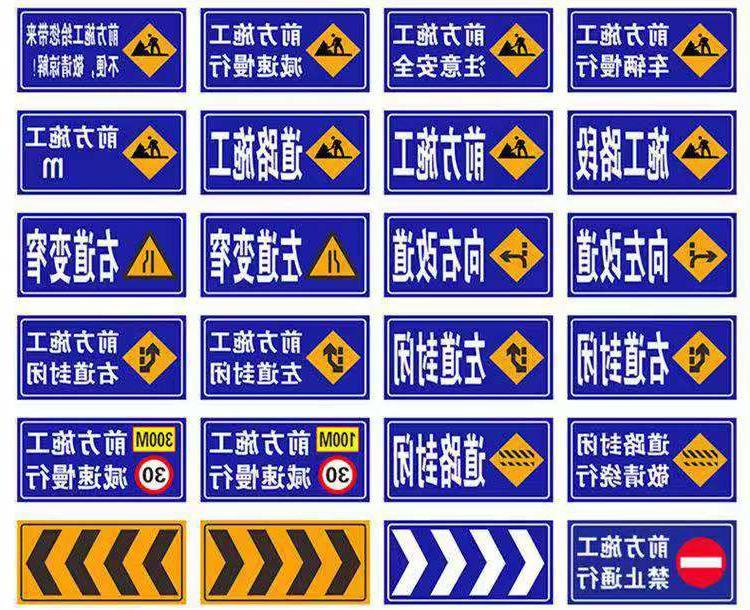sign: (383, 315, 554, 397), (200, 9, 369, 91), (19, 417, 185, 500), (18, 521, 185, 603), (571, 110, 735, 193), (18, 315, 186, 396), (20, 214, 184, 296), (569, 419, 734, 500), (385, 111, 552, 191), (202, 216, 369, 296), (386, 215, 550, 296), (387, 521, 551, 602), (202, 521, 366, 602), (17, 8, 183, 88), (569, 9, 735, 89), (202, 110, 368, 190), (569, 215, 735, 295), (569, 317, 735, 397), (385, 421, 551, 501), (387, 11, 550, 92), (202, 421, 367, 501), (568, 521, 734, 600), (17, 113, 183, 191), (202, 318, 368, 396)
